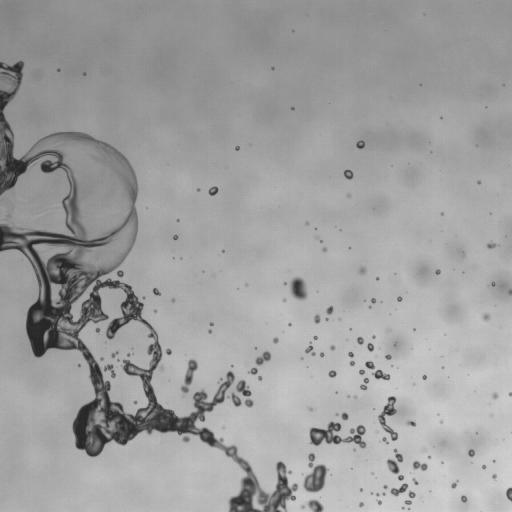droplet: (303, 453, 328, 492), (386, 449, 403, 480), (289, 277, 307, 300), (255, 351, 271, 365), (307, 499, 323, 511), (228, 393, 242, 406), (412, 461, 427, 470), (305, 344, 315, 355), (208, 186, 218, 195), (344, 170, 353, 179), (486, 242, 497, 248), (356, 140, 364, 148), (482, 313, 490, 321), (358, 267, 366, 274), (326, 306, 333, 314), (249, 367, 257, 374), (328, 370, 336, 377), (341, 412, 348, 420), (314, 314, 320, 323), (153, 288, 160, 295), (357, 336, 363, 344), (367, 343, 373, 351), (407, 420, 415, 426), (451, 480, 457, 488), (111, 351, 118, 357), (492, 392, 498, 399), (468, 449, 474, 456), (461, 495, 467, 502), (165, 348, 171, 354), (273, 337, 278, 343), (385, 354, 391, 359), (413, 478, 418, 484), (435, 269, 440, 274), (330, 345, 335, 350), (348, 352, 353, 357), (349, 360, 354, 365), (358, 502, 363, 507), (173, 235, 178, 239), (322, 247, 327, 251), (397, 296, 401, 301), (371, 298, 375, 303), (359, 370, 364, 374), (422, 375, 426, 380), (492, 474, 496, 479), (508, 289, 511, 295), (235, 146, 239, 150), (95, 328, 99, 332), (308, 407, 312, 411), (377, 500, 381, 504), (423, 447, 426, 452), (477, 180, 480, 184), (491, 282, 495, 285), (283, 298, 286, 302), (209, 322, 213, 325), (320, 352, 323, 356), (258, 376, 261, 380), (134, 400, 137, 404), (383, 485, 387, 488), (305, 222, 308, 225), (284, 282, 287, 285), (314, 336, 317, 339), (428, 455, 431, 458), (482, 465, 485, 468), (301, 505, 304, 508), (509, 392, 511, 396), (197, 188, 199, 191), (154, 309, 156, 312), (288, 323, 291, 325), (208, 330, 211, 332), (373, 335, 375, 338), (127, 353, 129, 356), (100, 358, 103, 360), (271, 67, 273, 69), (83, 73, 85, 75), (177, 219, 179, 221), (377, 277, 379, 279), (172, 299, 174, 301), (326, 318, 328, 320), (354, 395, 356, 397), (376, 493, 378, 495)
ligament: (0, 61, 298, 511), (309, 421, 366, 448), (378, 396, 397, 440), (181, 358, 198, 393), (365, 361, 390, 380), (236, 380, 253, 407), (390, 483, 408, 496), (404, 491, 415, 505), (360, 378, 368, 389), (506, 487, 511, 501), (382, 437, 388, 444)
